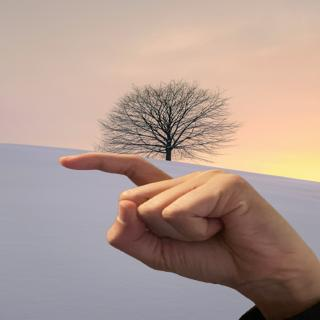WHY: (51, 136, 320, 299)
